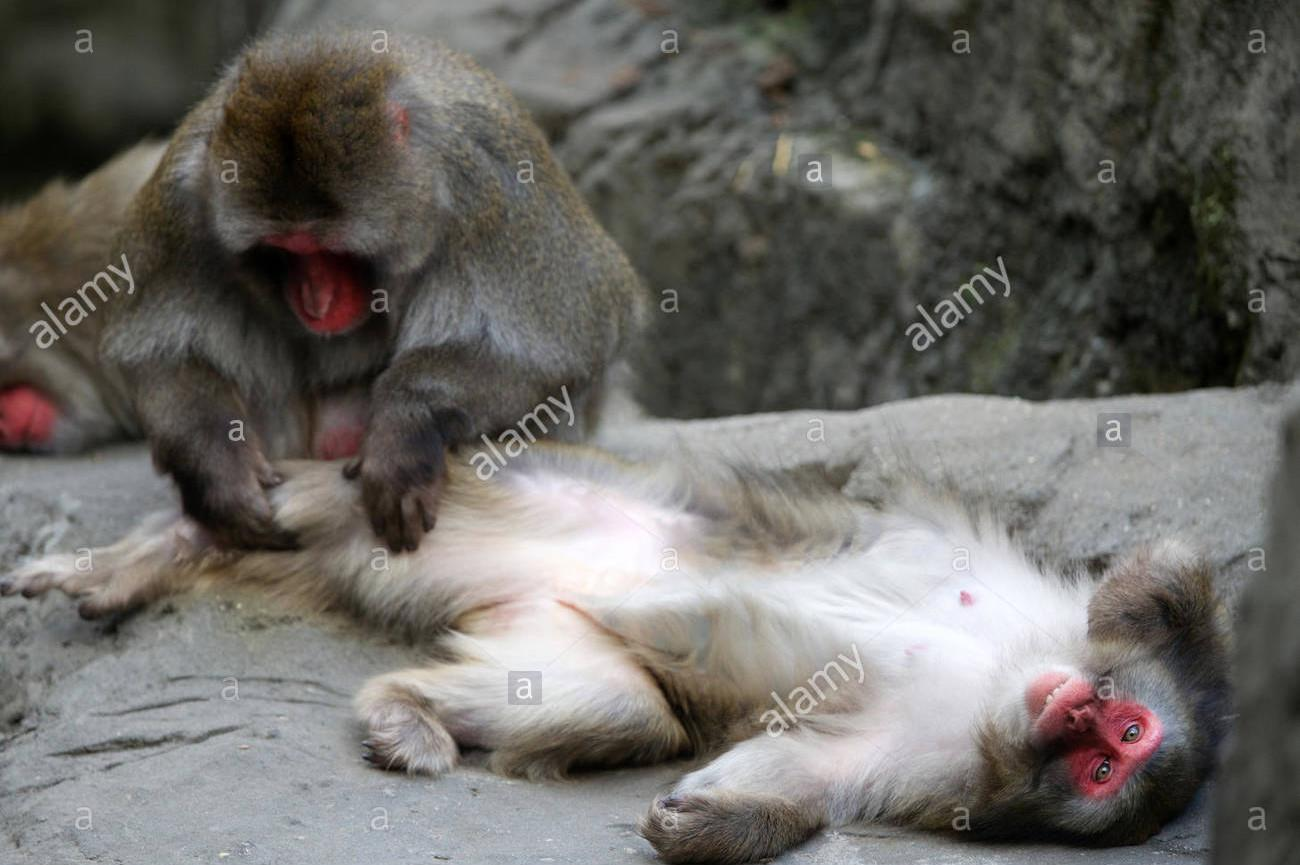monkey: (51, 50, 1291, 863)
